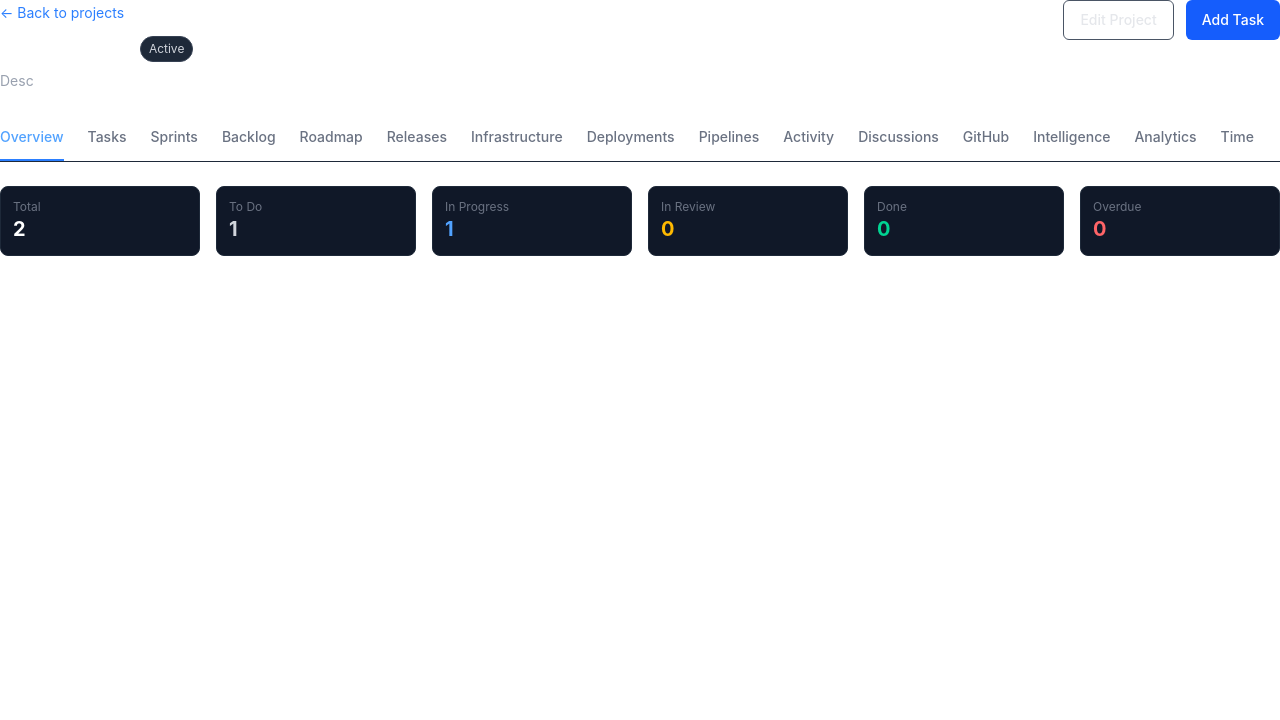
Test: ProjectDetails & Tasks › opens task form
Expected: the heading "Test Proj Active" is shown, [0, 31, 193, 67]
Click the button "Add Task". click: {"x": 1233, "y": 20}
box: [1186, 0, 1279, 40]
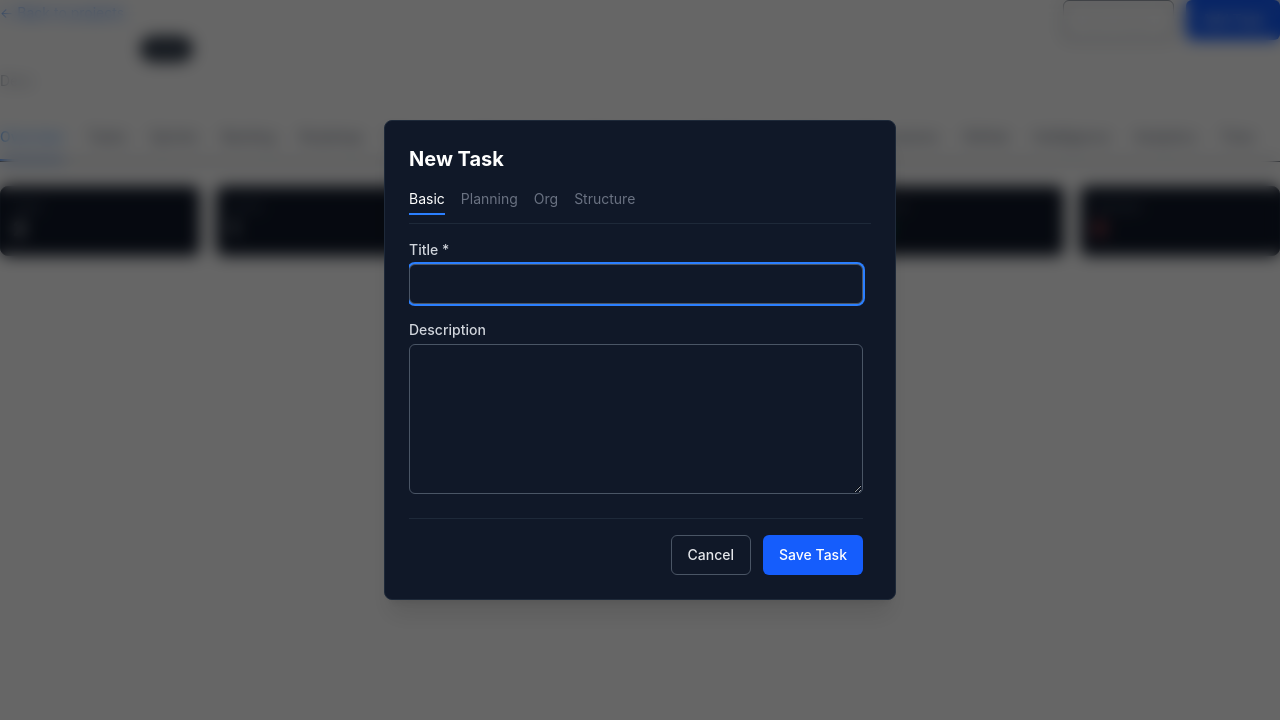
Expected: the heading "New Task" is shown, [409, 147, 504, 171]
Expected: the text "Title *" is shown, [409, 241, 449, 258]
